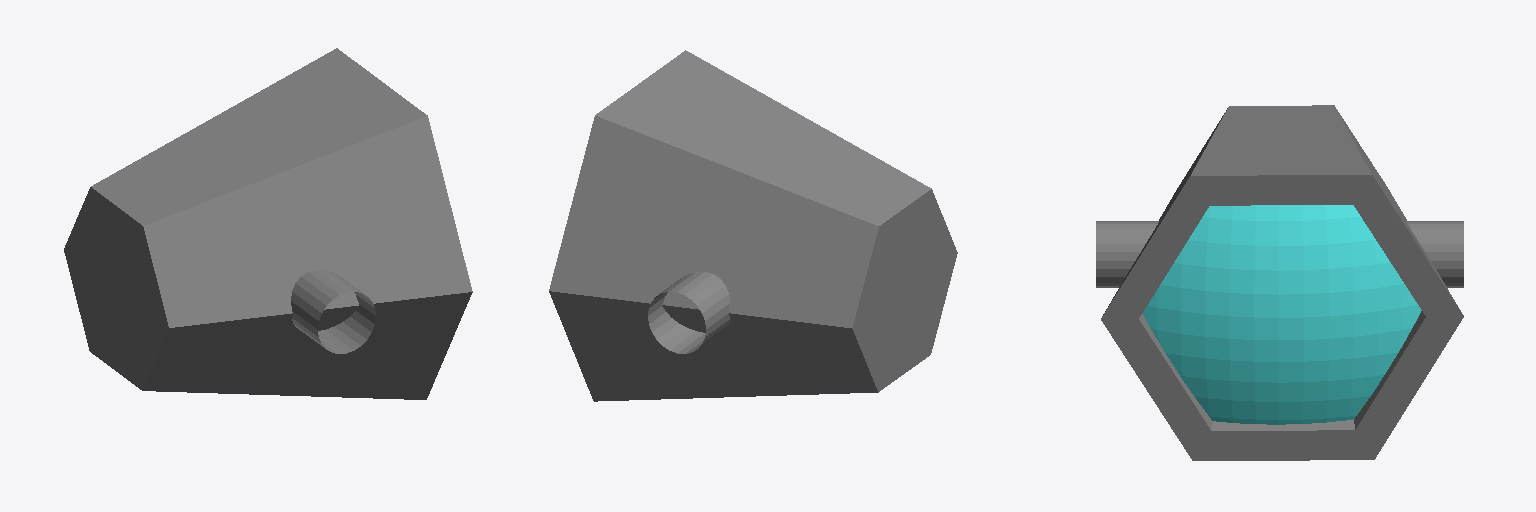
Rendered from MovingHead3D_Head.obj.
3 renders of one model, left to right at view 1: azimuth 30°, elevation 25°; view 2: azimuth 150°, elevation 25°; view 3: azimuth 270°, elevation 25°, orthographic.
Parts seen in each view (by area): view 1: Mesh1 Group2 Group1 Model, Mesh3 Group3 Model; view 2: Mesh1 Group2 Group1 Model, Mesh6 Group4 Model; view 3: Mesh9 Group5 Model, Mesh1 Group2 Group1 Model, Mesh3 Group3 Model, Mesh6 Group4 Model.
Part boxes in pixels (left/top/right/bottom): Mesh1 Group2 Group1 Model: left=64, top=48, right=472, bottom=399; Mesh3 Group3 Model: left=291, top=270, right=375, bottom=353; Mesh1 Group2 Group1 Model: left=549, top=50, right=957, bottom=401; Mesh6 Group4 Model: left=648, top=272, right=729, bottom=353; Mesh9 Group5 Model: left=1143, top=205, right=1421, bottom=424; Mesh1 Group2 Group1 Model: left=1101, top=105, right=1463, bottom=460; Mesh3 Group3 Model: left=1096, top=221, right=1158, bottom=287; Mesh6 Group4 Model: left=1406, top=221, right=1463, bottom=287.
Size of the model in its own units: 26.58 by 26.32 by 30.67.